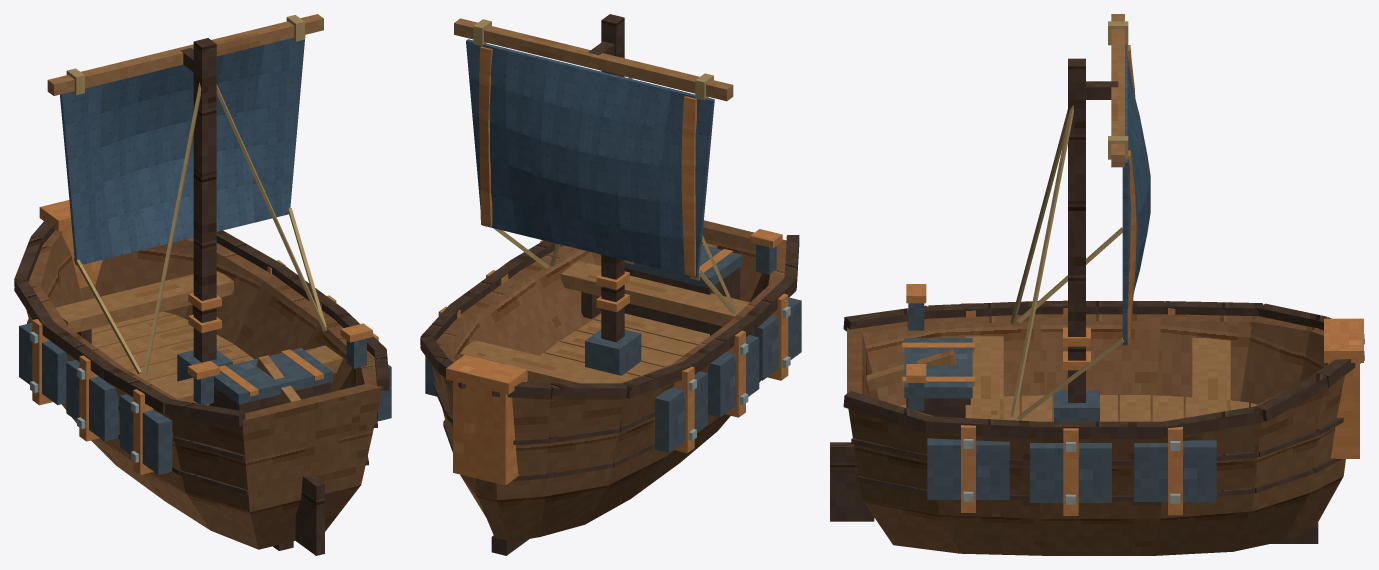
The model's file is dwarf_embark_boat_v1.glb.
The picture shows the model from 3 angles, left to right: view 1: azimuth 30°, elevation 25°; view 2: azimuth 150°, elevation 25°; view 3: azimuth 270°, elevation 25°; orthographic projection. The views are drawn at different scales.
Parts seen in each view (by area): view 1: Hull, Sail, Rig, Deck, Details; view 2: Hull, Sail, Deck, Rig, Details; view 3: Hull, Rig, Deck, Sail, Details.
Part boxes in pixels (box(x1,y1,x2,y2)): Hull: box(14, 200, 391, 550); Sail: box(60, 35, 305, 265); Rig: box(47, 14, 326, 555); Deck: box(56, 271, 343, 412); Details: box(30, 323, 372, 462); Hull: box(420, 220, 801, 555); Sail: box(466, 39, 714, 277); Deck: box(460, 245, 749, 383); Rig: box(454, 14, 735, 375); Details: box(688, 229, 790, 440); Hull: box(843, 300, 1364, 555); Rig: box(830, 14, 1128, 521); Deck: box(899, 336, 1257, 421); Sail: box(1122, 44, 1150, 345); Details: box(906, 284, 1180, 504).
Bounding box in the file's own units: 1.66 × 2.62 × 2.66.
1 material, 1 textured.
